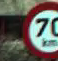Speed limit: (17, 0, 57, 59)
